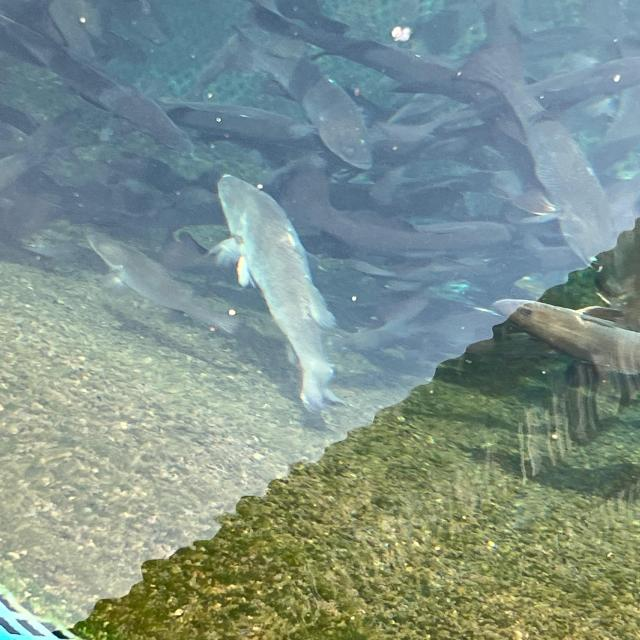ikan: (161, 149, 360, 416), (478, 263, 595, 378)
